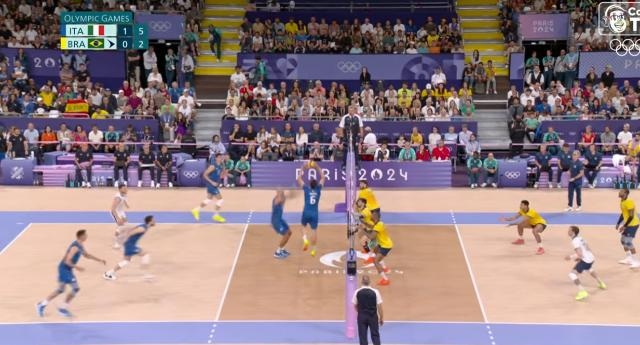Levantador: (301, 172, 323, 250), (356, 176, 374, 202)
Libero: (567, 224, 599, 296), (111, 182, 129, 240)
bola: (307, 158, 315, 170)
